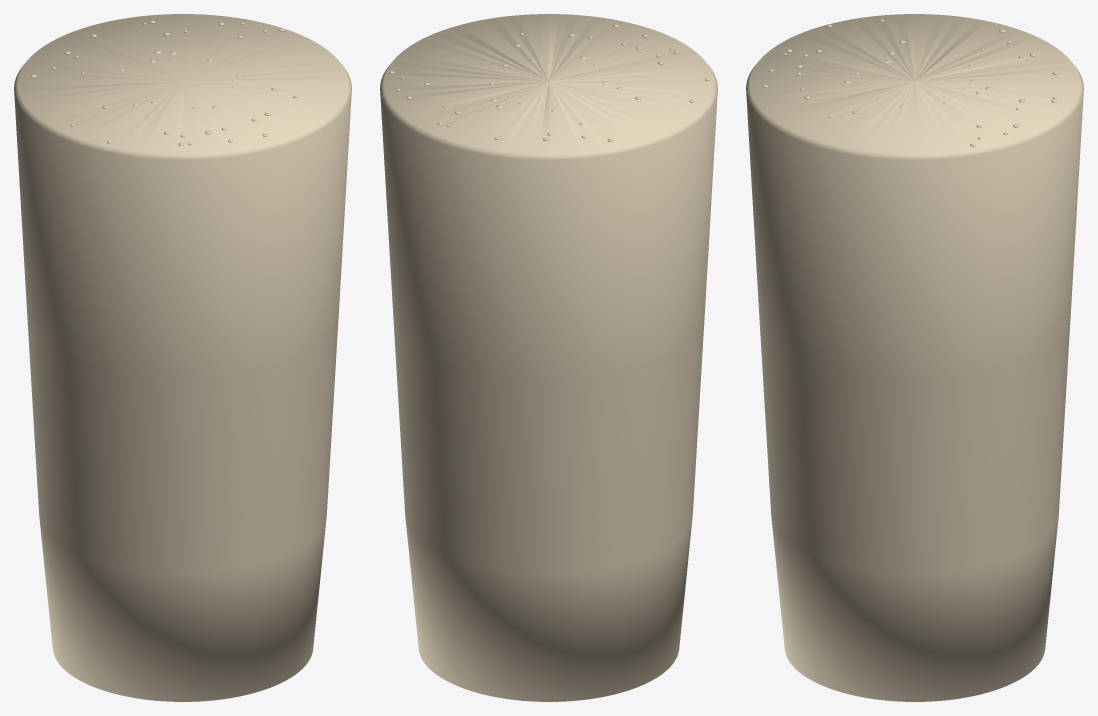
Rendered from sweet-shake-vanilla.glb.
The picture shows the model from 3 angles, left to right: view 1: azimuth 30°, elevation 25°; view 2: azimuth 150°, elevation 25°; view 3: azimuth 270°, elevation 25°; orthographic projection.
Parts seen in each view (by area): view 1: vanilla shake; view 2: vanilla shake; view 3: vanilla shake.
Part boxes in pixels (left/top/right/bottom): vanilla shake: left=14, top=14, right=351, bottom=701; vanilla shake: left=380, top=14, right=717, bottom=701; vanilla shake: left=746, top=14, right=1083, bottom=701.
Bounding box in the file's own units: 1.3 × 2.39 × 1.3.
